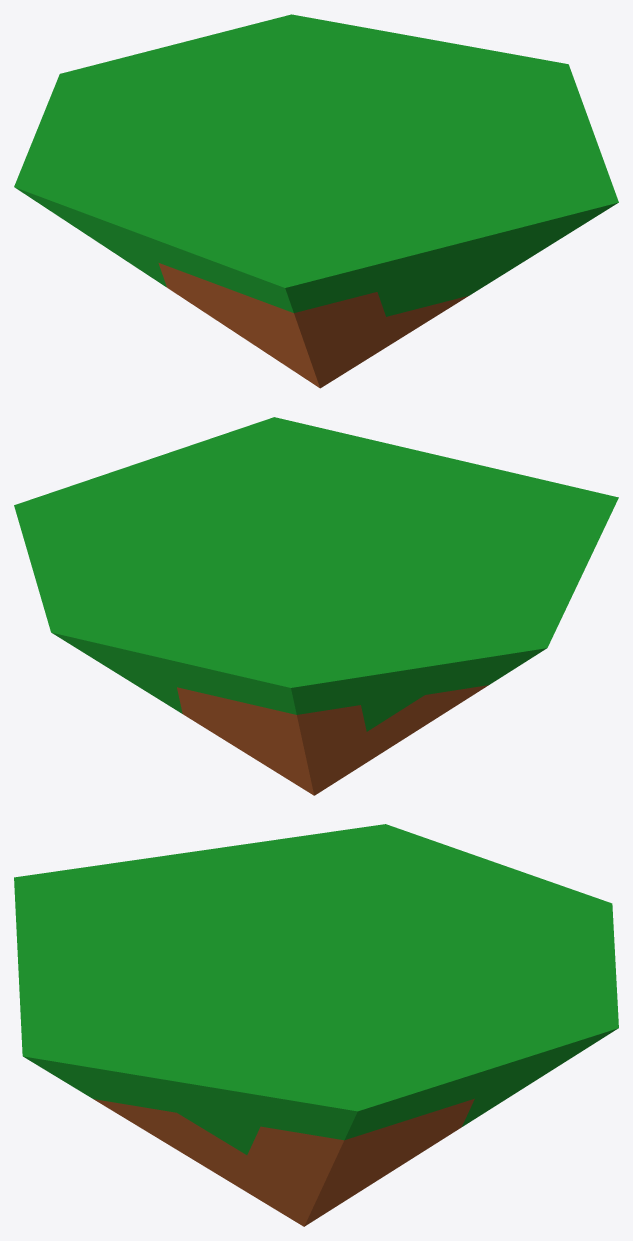
Rendered from Platform03.fbx.
3 views of the same model, one above another, from view 1: azimuth 30°, elevation 25°; view 2: azimuth 150°, elevation 25°; view 3: azimuth 270°, elevation 25° (orthographic). The views are drawn at different scales.
Parts seen in each view (by area): view 1: Cone.001; view 2: Cone.001; view 3: Cone.001.
Boxes of the visible parts, box(x1,y1,x2,y2) form: Cone.001: box(14, 14, 618, 388); Cone.001: box(14, 417, 618, 795); Cone.001: box(14, 824, 618, 1226).
Bounding box in the file's own units: 473 × 200 × 421.
